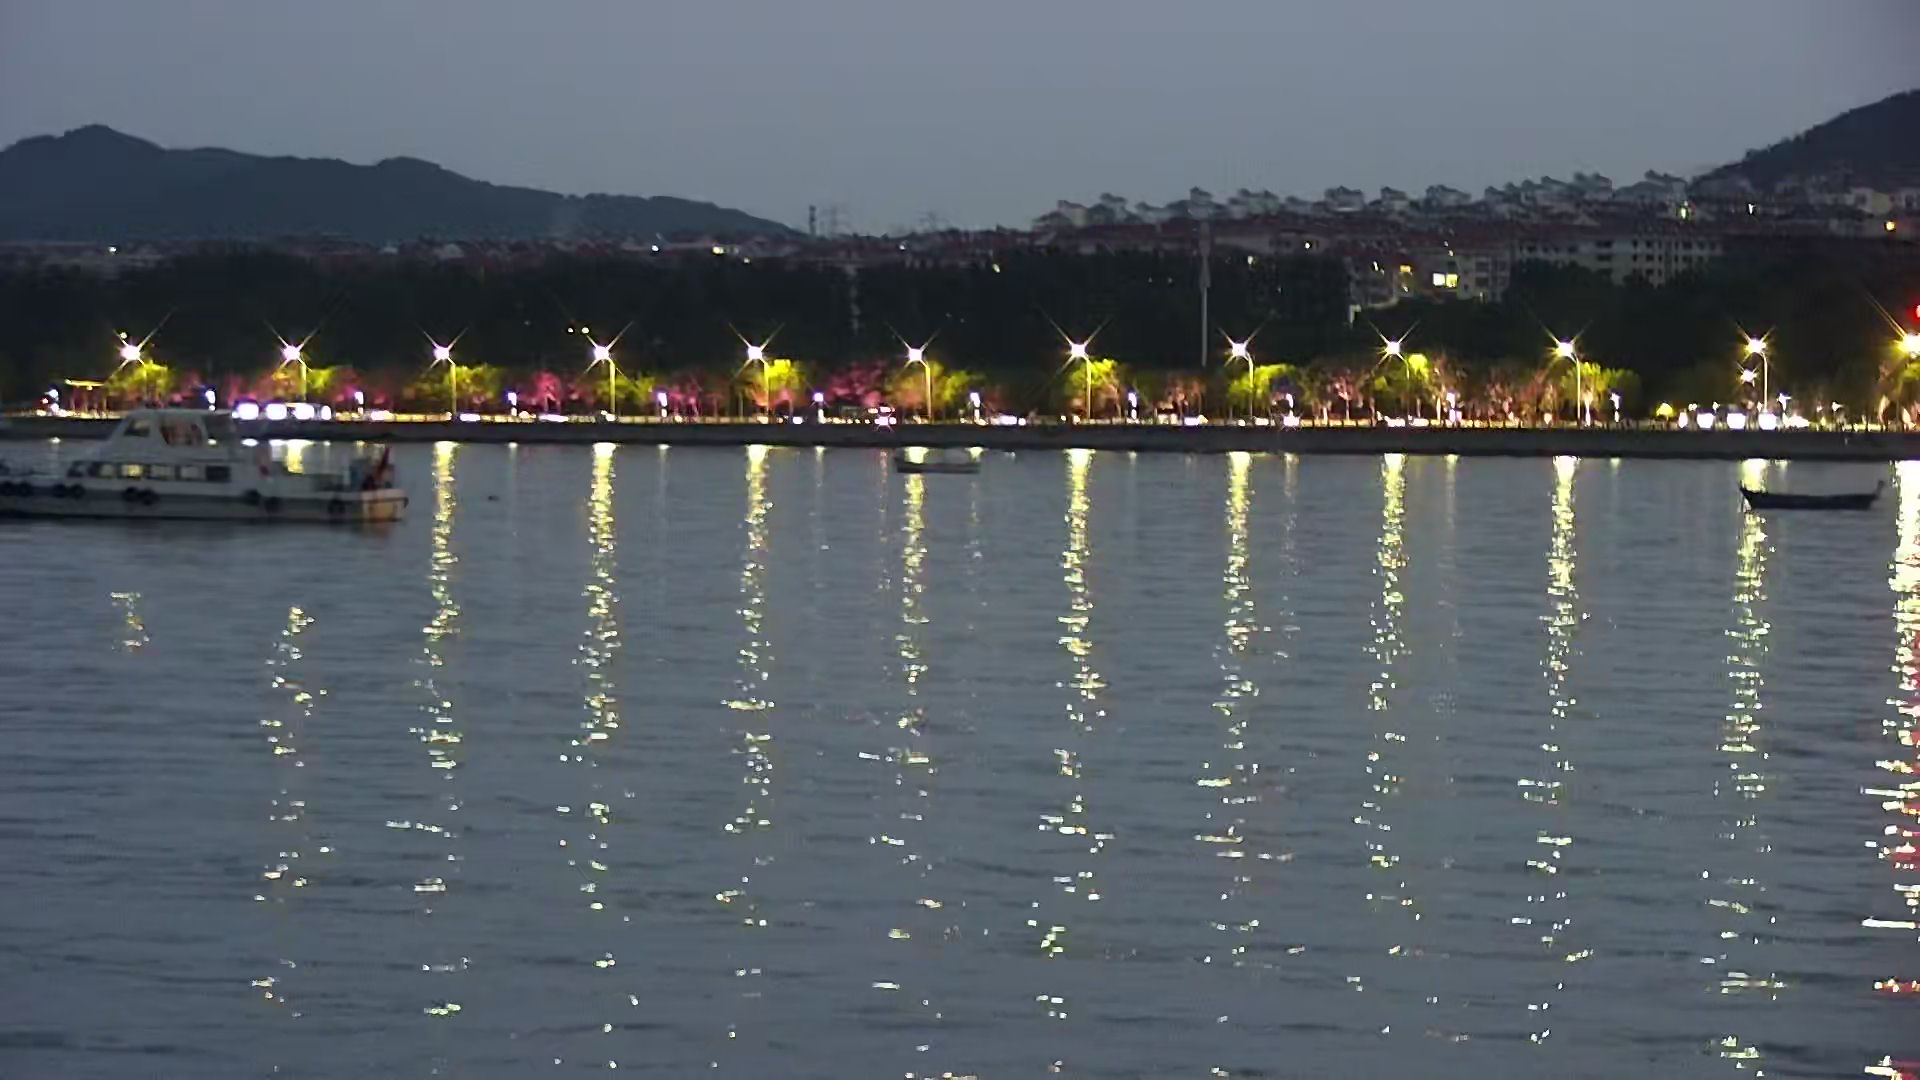boat: (1730, 487, 1888, 513), (885, 458, 985, 479)
ship: (1, 404, 413, 527)
